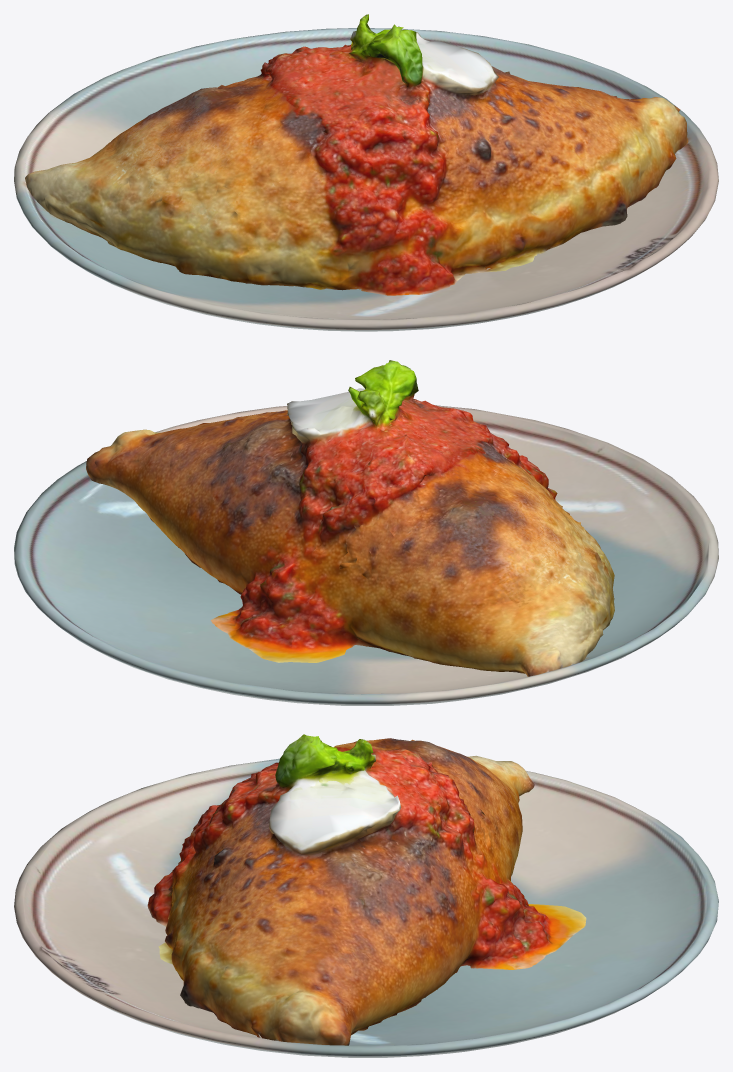
3 views of the same model, one above another, from view 1: azimuth 30°, elevation 25°; view 2: azimuth 150°, elevation 25°; view 3: azimuth 270°, elevation 25° (orthographic).
Visible parts, largest first — view 1: object; view 2: object; view 3: object.
Part boxes in pixels (left/top/right/bottom): object: left=14, top=14, right=718, bottom=331; object: left=14, top=360, right=718, bottom=705; object: left=14, top=734, right=718, bottom=1057.
Bounding box in the file's own units: 0.3048 × 0.1013 × 0.3048.
Materials: 1 (1 with a texture image).
